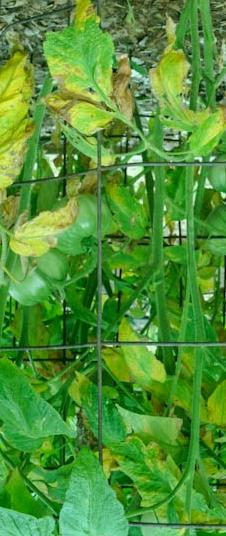Tomato Early blight leaf: (44, 0, 134, 133), (146, 23, 226, 154), (13, 183, 85, 261), (0, 56, 35, 191), (118, 319, 168, 383), (204, 380, 226, 431)
Tomato leaf: (61, 440, 127, 536), (0, 361, 62, 456), (0, 504, 54, 536)
